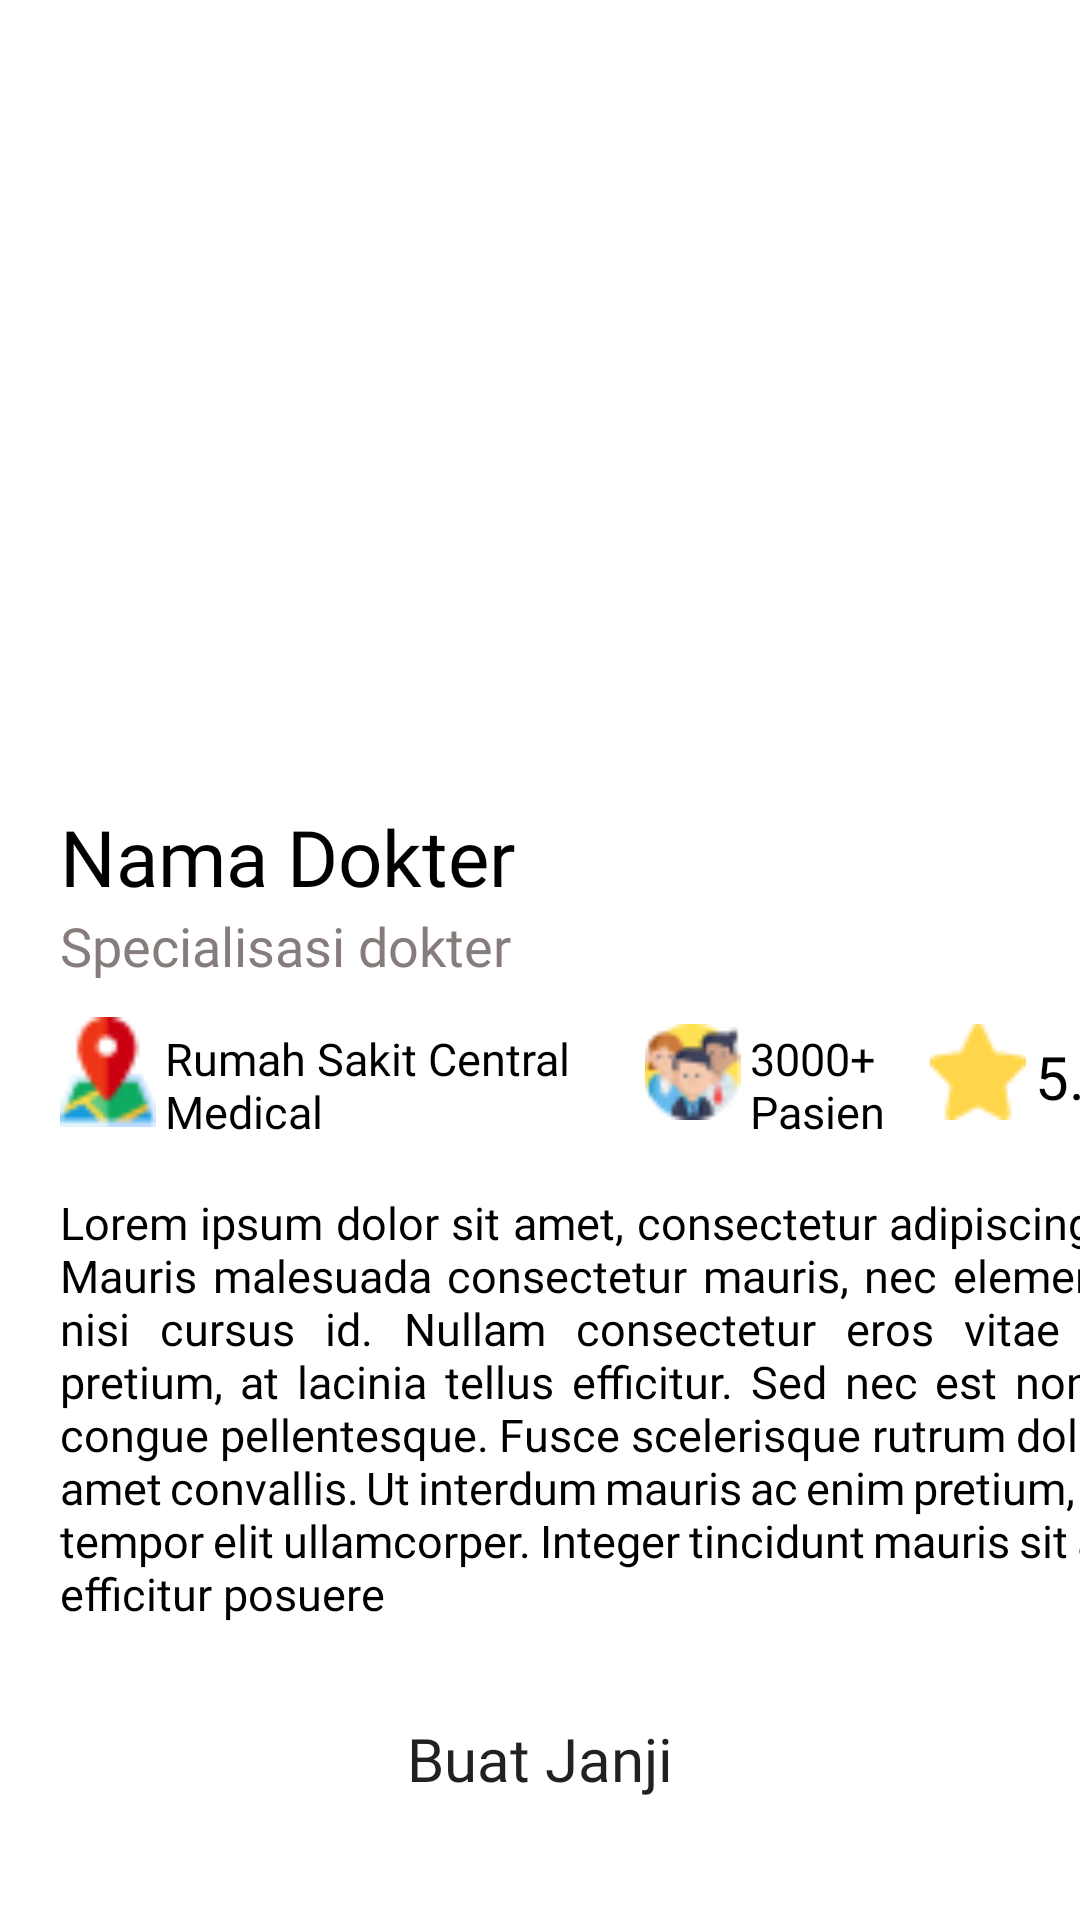

Screen size 1080px x 1920px. Icon name, then its center in pixels as (x=x, y=y):
map: (x=108, y=1072)
star: (x=978, y=1072)
teamwork: (x=693, y=1072)
